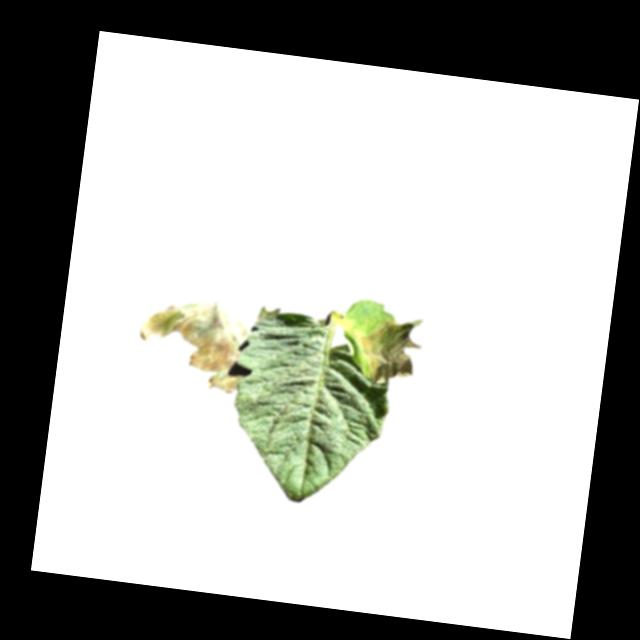Late_blight: (132, 290, 254, 395), (354, 311, 424, 388)
